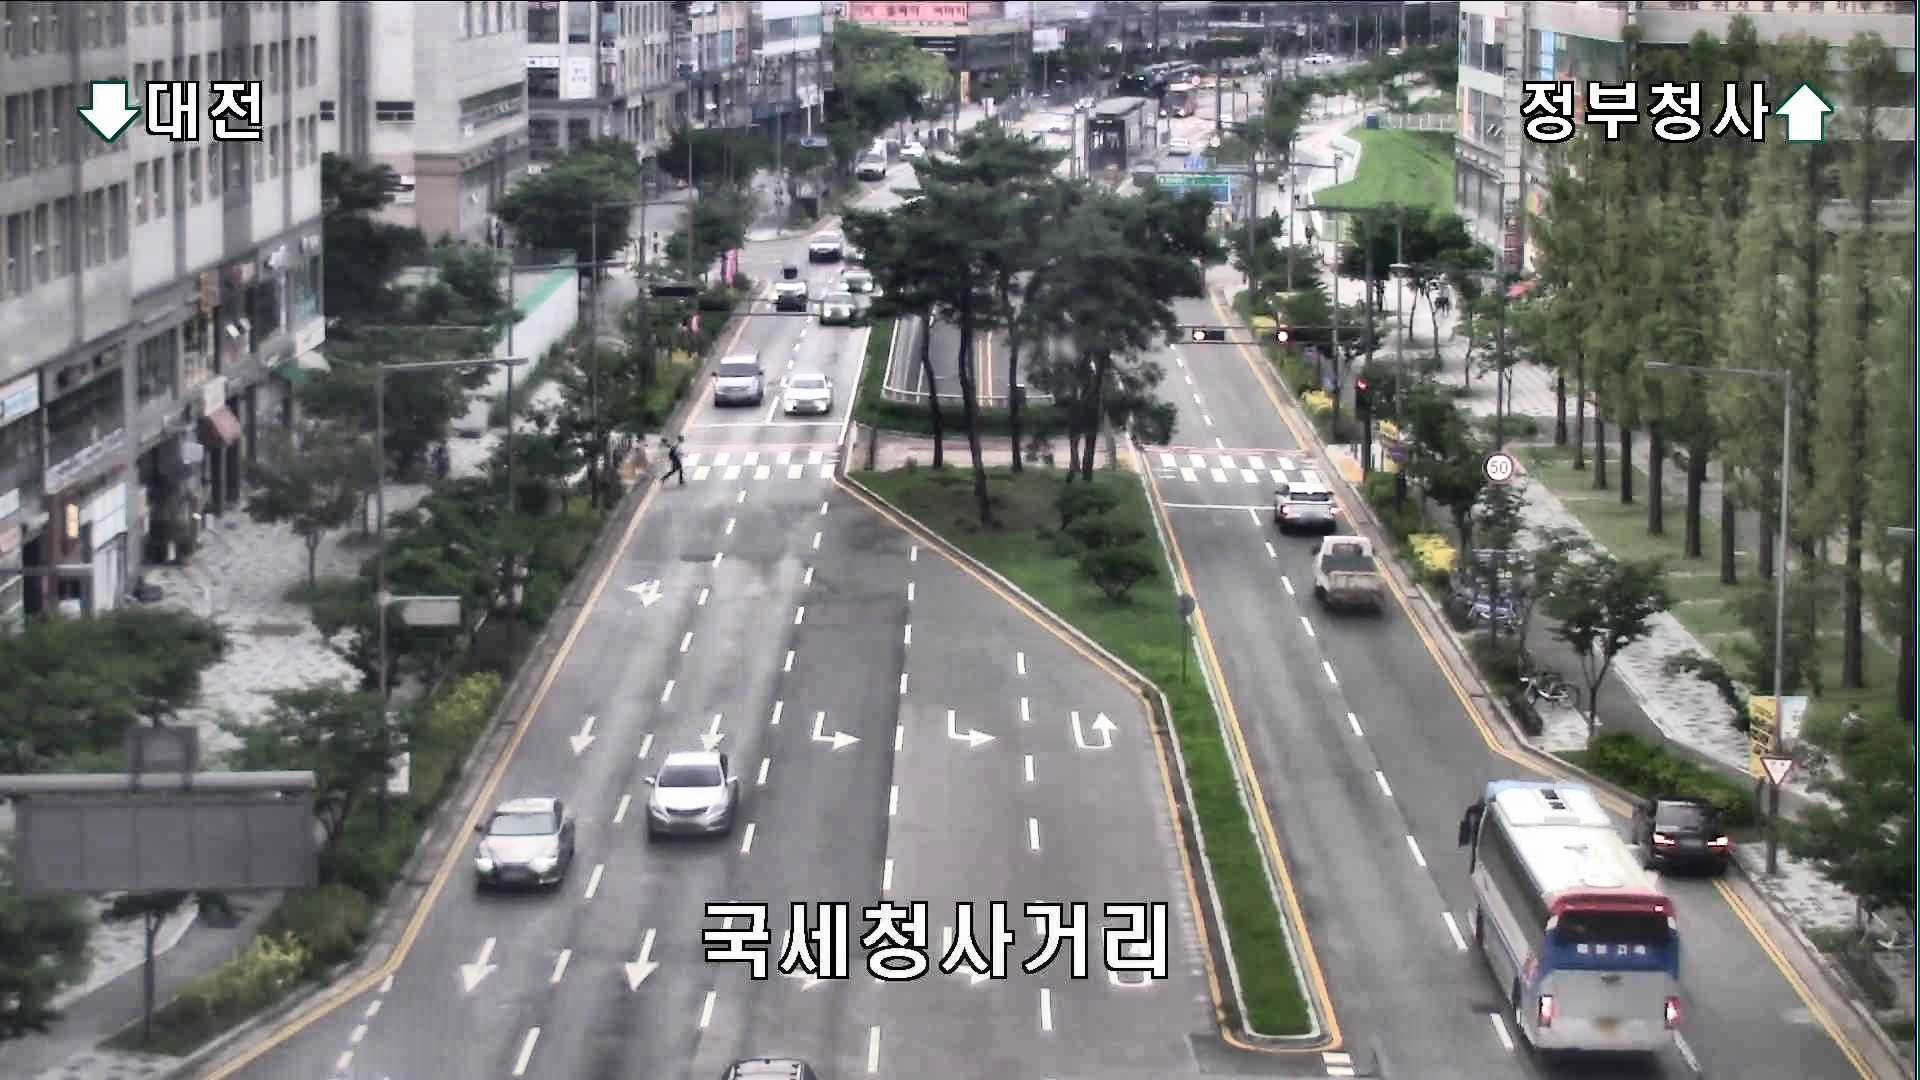crosswalk: (658, 433, 692, 485)
